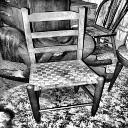chair_success: (12, 2, 116, 124)
